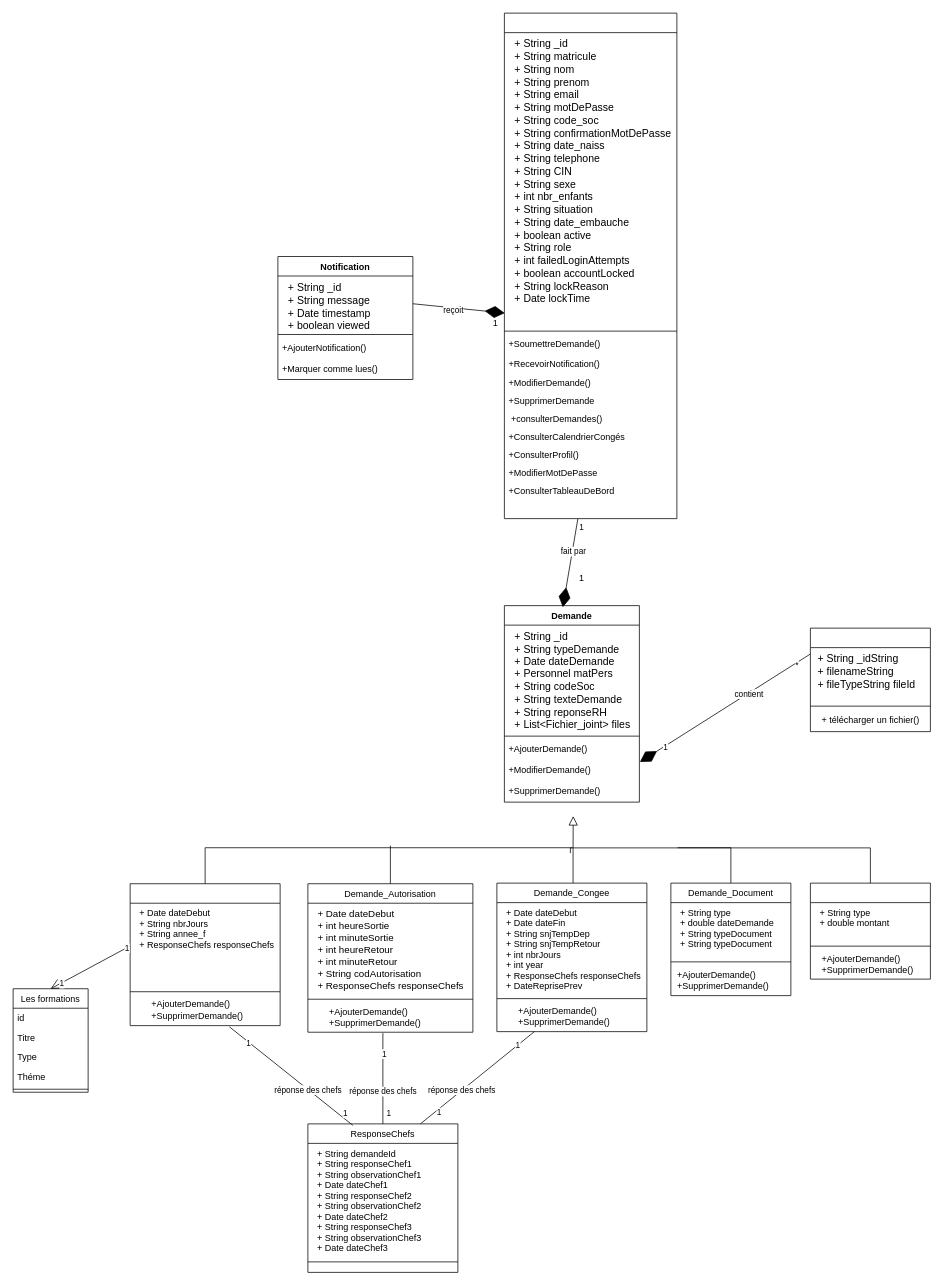
The diagram is 944 pixels wide and 1286 high, and some of its shapes have lost their labels. Each missing label, with the box of its shape:
Demande_formation: (129, 883, 280, 1026)
Demande_PreAvance: (810, 882, 930, 979)
Fichier_joint: (810, 627, 930, 732)
personnel: (504, 12, 677, 519)
